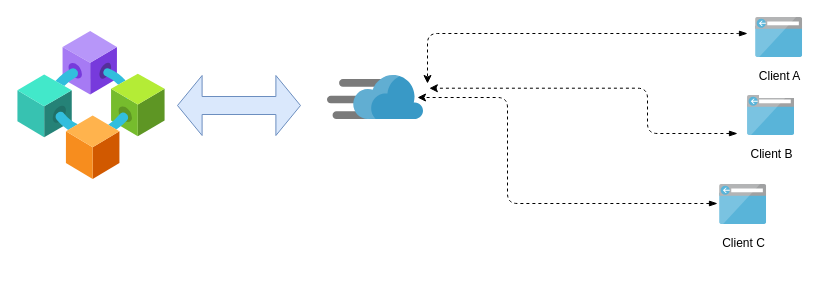
Some shapes in this 820 by 282 pixel diagram are drawn without their labels. Each missing label, with the centre of its shape:
Blockchain: (x=91, y=105)
Server: (x=375, y=97)
